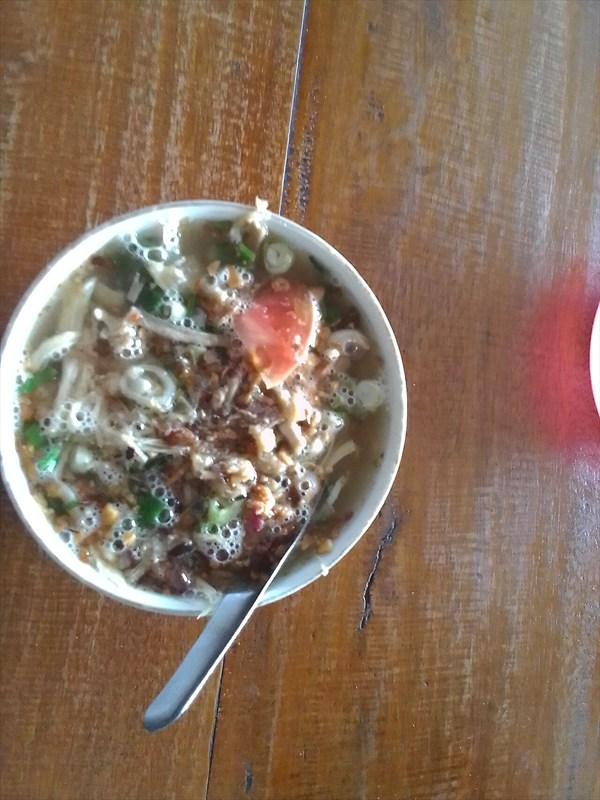Soto Ayam: (12, 185, 407, 648)
